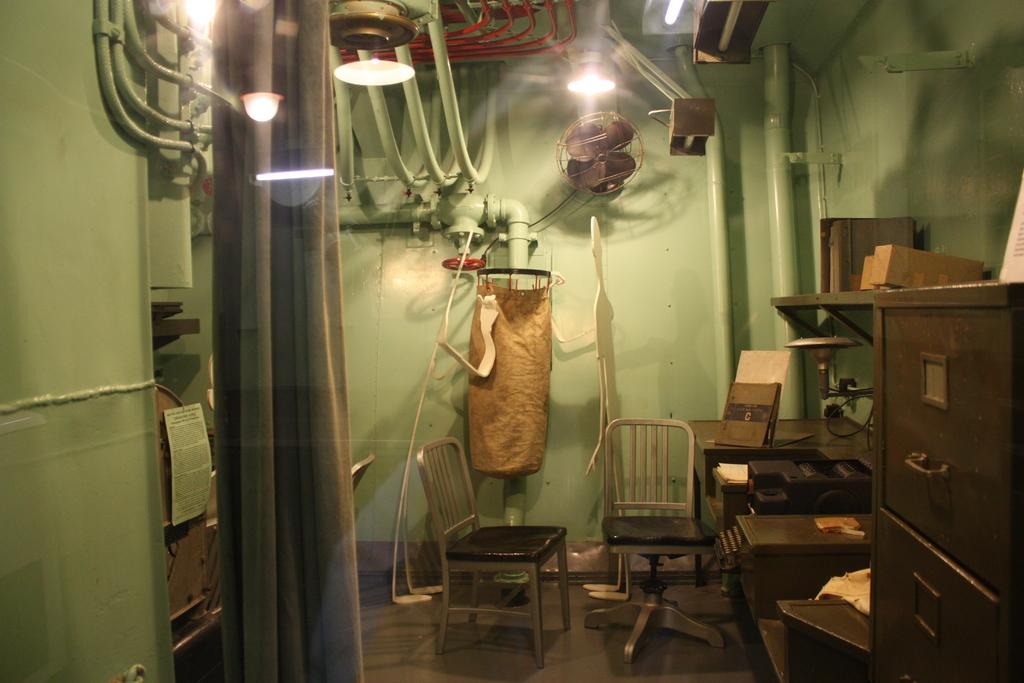cabinet_door: (886, 318, 1008, 546), (877, 545, 1001, 683)
handle: (908, 451, 946, 486)
